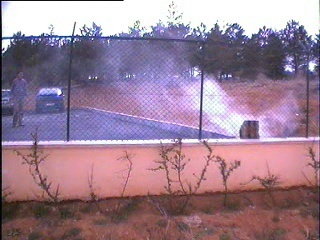smoke: (151, 53, 299, 141)
